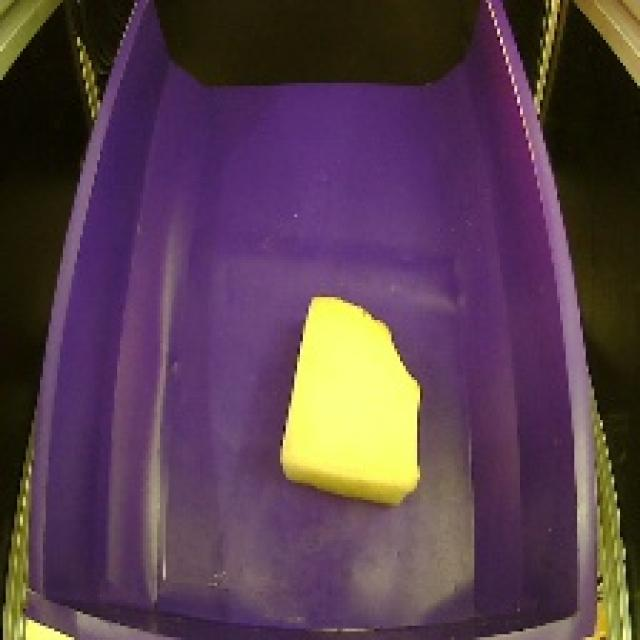potato: (270, 286, 427, 517)
